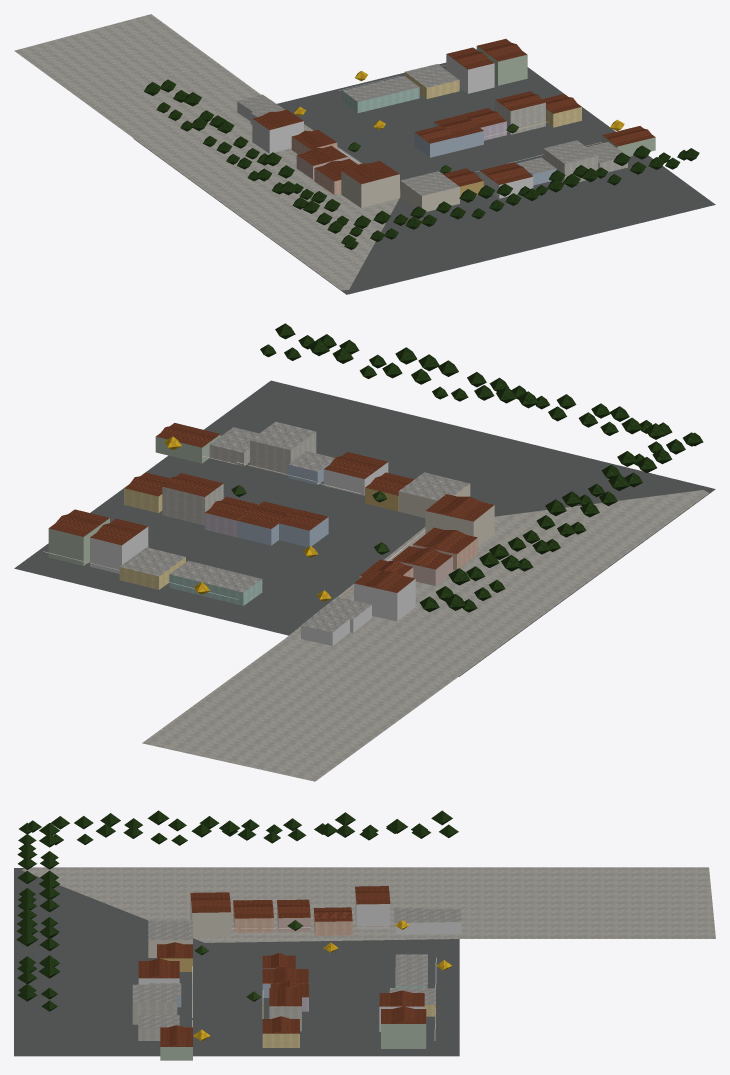
File: cidade_S00_00_lod.gltf
The picture shows the model from 3 angles, top to bottom: view 1: azimuth 30°, elevation 25°; view 2: azimuth 150°, elevation 25°; view 3: azimuth 270°, elevation 25°; orthographic projection. The views are drawn at different scales.
Parts seen in each view (by area): view 1: S00_00_Chao_LOD2, S00_00_Edificios_LOD1, S00_00_Silhueta_LOD2, S00_00_Vegetacao_LOD2; view 2: S00_00_Chao_LOD2, S00_00_Edificios_LOD1, S00_00_Silhueta_LOD2, S00_00_Vegetacao_LOD2; view 3: S00_00_Chao_LOD2, S00_00_Edificios_LOD1, S00_00_Vegetacao_LOD2, S00_00_Silhueta_LOD2.
Boxes of the visible parts, box(x1,y1,x2,y2) form: S00_00_Chao_LOD2: box(14, 14, 715, 294); S00_00_Edificios_LOD1: box(237, 42, 655, 211); S00_00_Silhueta_LOD2: box(252, 39, 655, 207); S00_00_Vegetacao_LOD2: box(144, 71, 699, 249); S00_00_Chao_LOD2: box(14, 380, 715, 781); S00_00_Edificios_LOD1: box(43, 421, 494, 645); S00_00_Silhueta_LOD2: box(48, 423, 494, 620); S00_00_Vegetacao_LOD2: box(164, 323, 703, 612); S00_00_Chao_LOD2: box(14, 867, 715, 1056); S00_00_Edificios_LOD1: box(132, 890, 461, 1060); S00_00_Vegetacao_LOD2: box(16, 810, 458, 1041); S00_00_Silhueta_LOD2: box(138, 886, 426, 1060).
Size of the model in its own units: 103 by 15.92 by 158.
20 materials, 20 textured.
